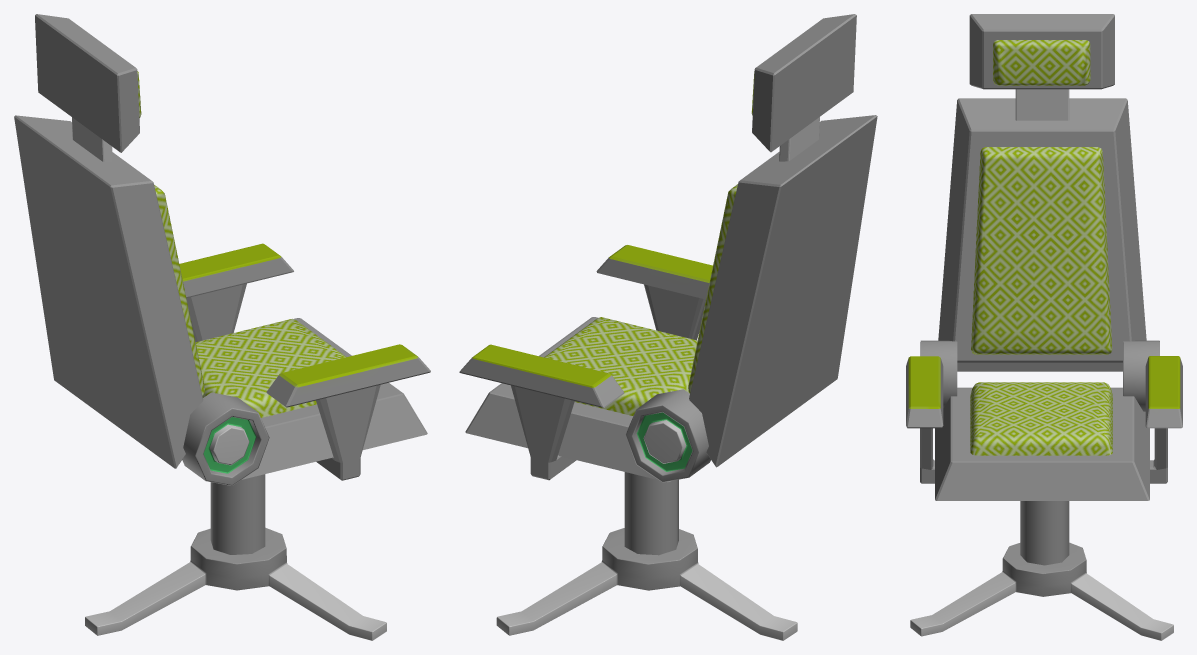
Rendered from SM_Chair_02.fbx.
3 renders of one model, left to right at view 1: azimuth 30°, elevation 25°; view 2: azimuth 150°, elevation 25°; view 3: azimuth 270°, elevation 25°, orthographic. The views are drawn at different scales.
Visible parts, largest first — view 1: SM_Chair_02; view 2: SM_Chair_02; view 3: SM_Chair_02.
Part boxes in pixels (x1,y1,x2,y2): SM_Chair_02: (14, 14, 430, 640); SM_Chair_02: (459, 14, 877, 640); SM_Chair_02: (906, 14, 1182, 640).
Size of the model in its own units: 89.47 by 80.52 by 167.
